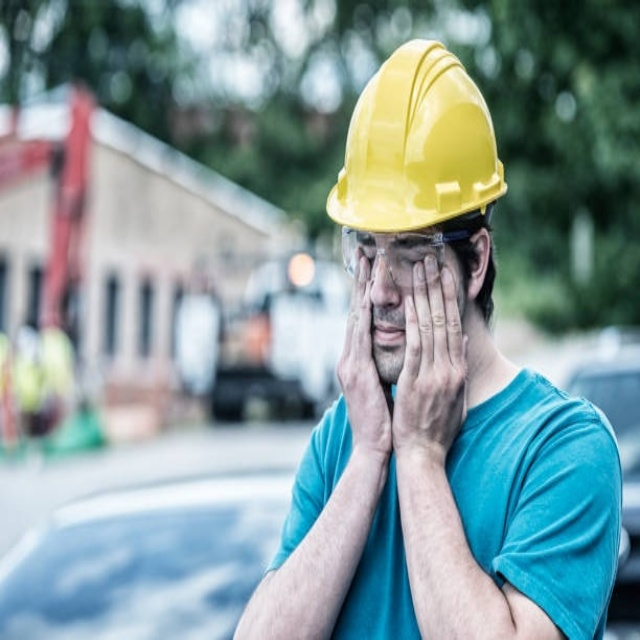Gafas: (342, 223, 465, 285)
Sin_guantes: (388, 250, 471, 455), (336, 249, 395, 453)
Sin_mascara: (372, 322, 407, 345)
